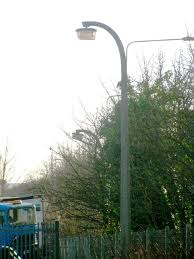light_pole: (106, 31, 134, 237)
